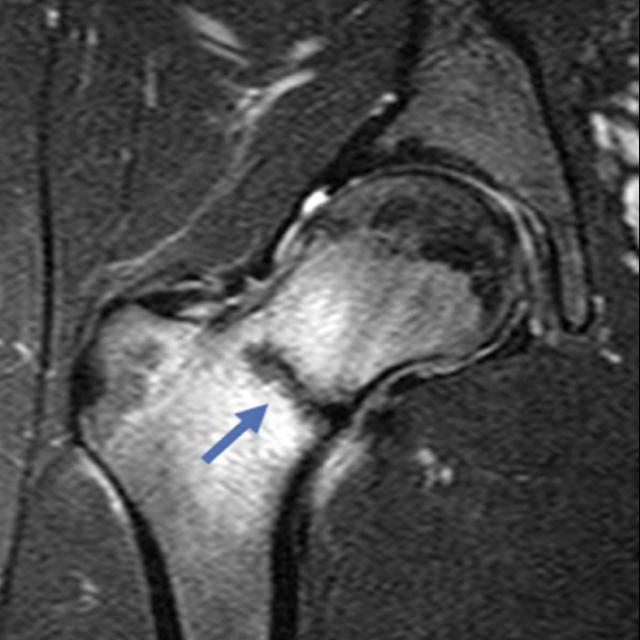Transverse Displaced: (231, 311, 392, 456)
